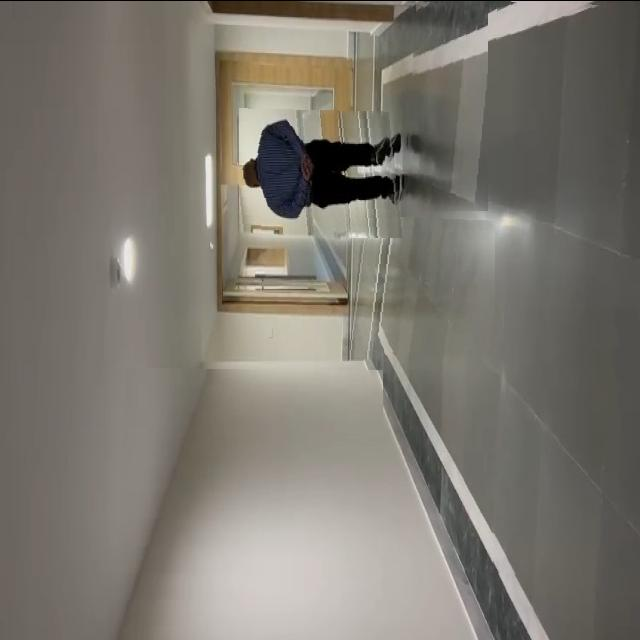floor: (492, 0, 640, 640), (349, 214, 495, 354), (404, 0, 488, 210)
moving_object: (239, 107, 403, 237)
wall: (116, 367, 383, 640)
